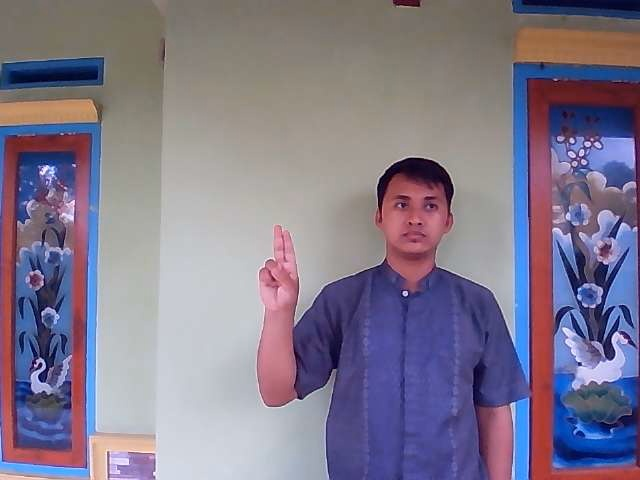U: (256, 222, 301, 317)
